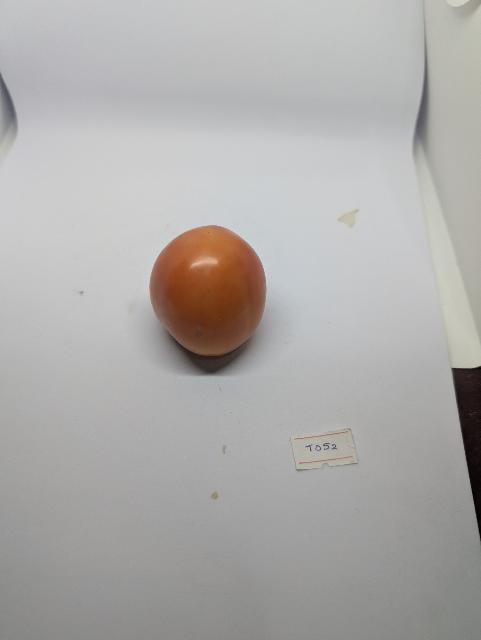turning: (146, 216, 273, 373)
